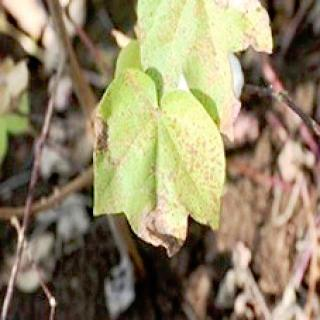leaf spot: (89, 97, 227, 257)
